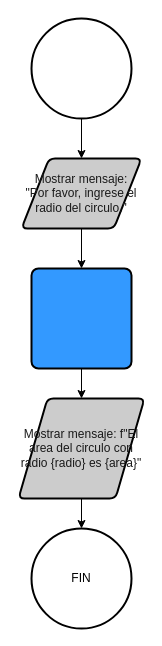
Image size: 162x646. Some labels were removed from this diagram. The box of each missing label's shape, as (x1, y1, x2, y2) in pixels:
Definir y asignar a la variable area el resulta do de π * radio^2: (30, 267, 132, 369)
INICIO: (30, 17, 132, 119)
